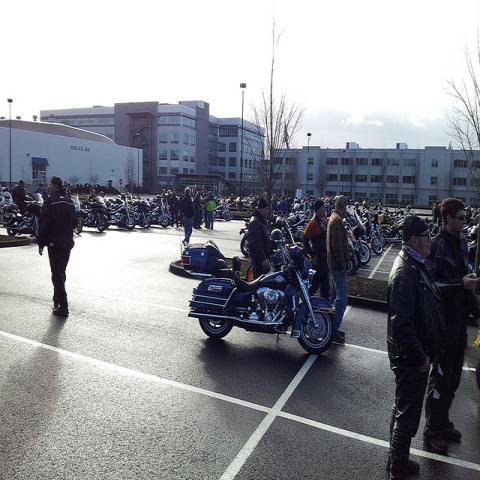motorcycle: (181, 240, 337, 355), (74, 196, 252, 235), (1, 191, 44, 239), (353, 210, 383, 255), (270, 218, 295, 270), (107, 195, 136, 230), (346, 224, 371, 263), (77, 204, 108, 232), (376, 215, 404, 244), (148, 197, 170, 229), (130, 197, 152, 228), (289, 205, 311, 222), (239, 224, 250, 258), (348, 238, 360, 269)
